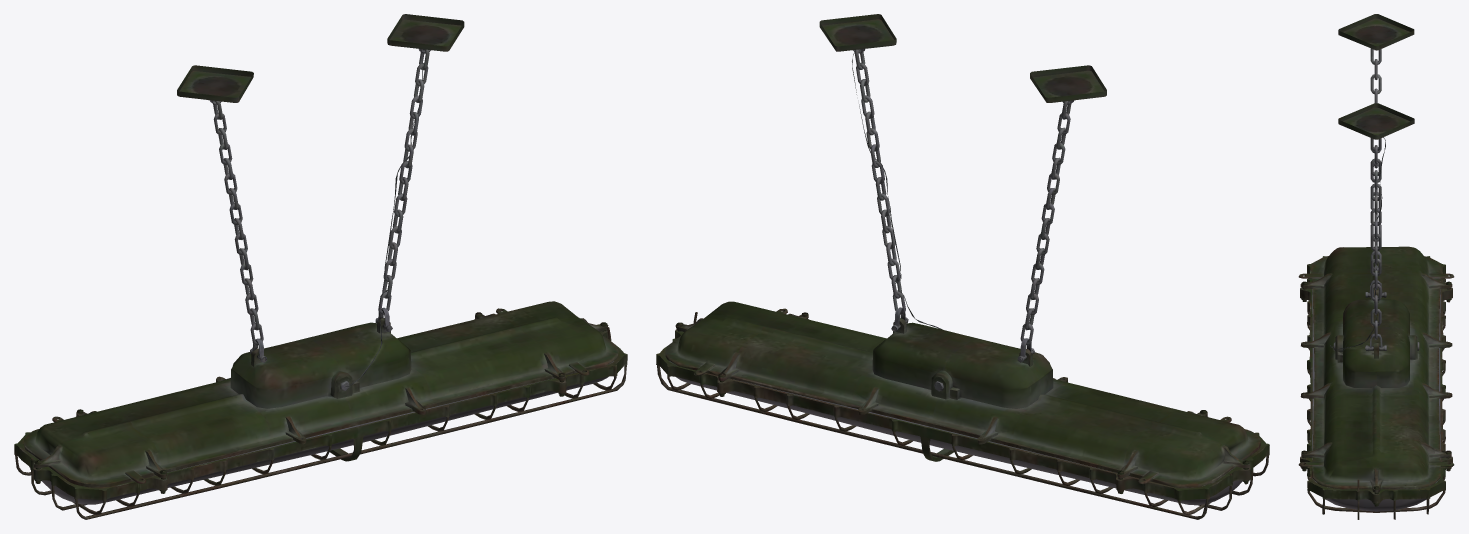
The model's file is caged_light.glb.
3 renders of one model, left to right at view 1: azimuth 30°, elevation 25°; view 2: azimuth 150°, elevation 25°; view 3: azimuth 270°, elevation 25°, orthographic. The views are drawn at different scales.
Visible parts, largest first — view 1: caged_hanging_light; view 2: caged_hanging_light; view 3: caged_hanging_light.
Part boxes in pixels (x1,y1,x2,y2): caged_hanging_light: (14, 14, 627, 519); caged_hanging_light: (656, 14, 1269, 519); caged_hanging_light: (1298, 14, 1454, 519).
Size of the model in its own units: 1.16 by 0.7501 by 0.3149.
Materials: 1 (1 with a texture image).
